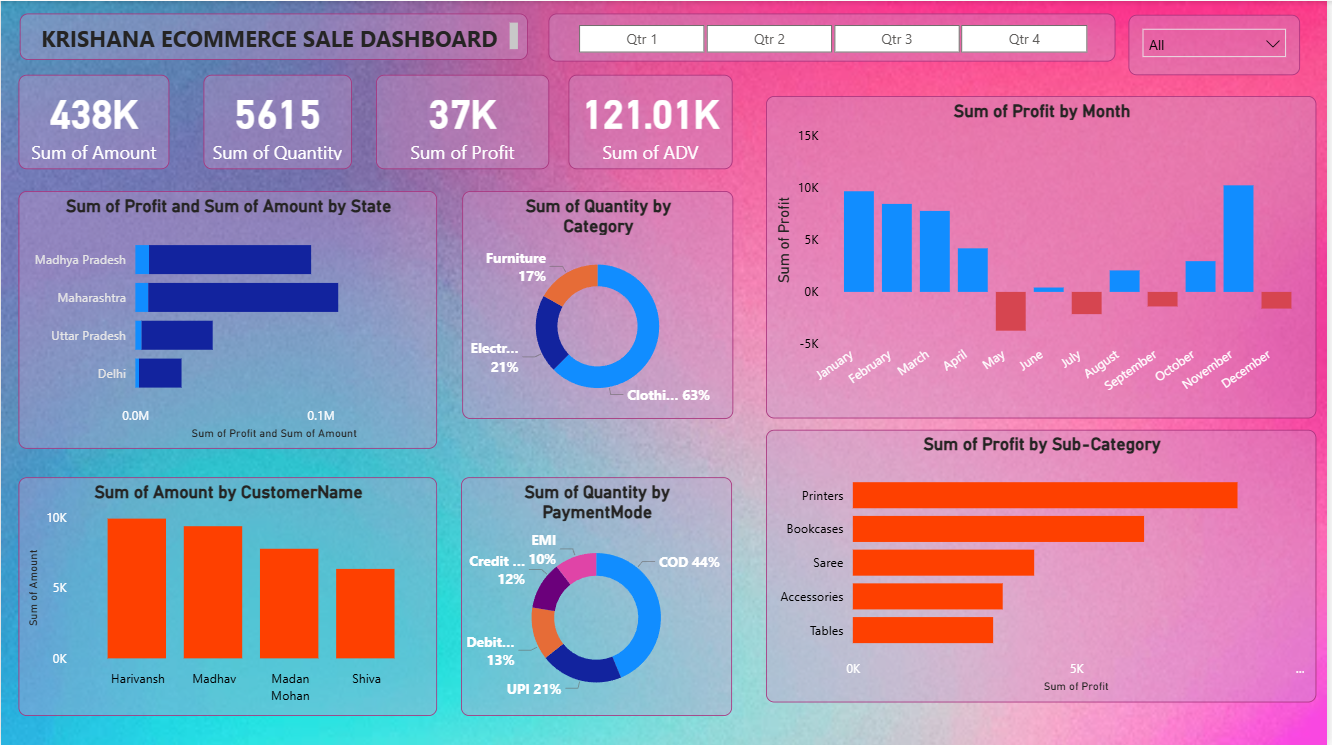

The dashboard page shown, as its layout file describes it:
{"tool":"powerbi","page":{"name":"Page 1","canvas":[1280,720],"ordinal":0},"visuals":[{"type":"textbox","box":[17.5,12.5,490,45],"z":0},{"type":"columnChart","fields":{"Category":["Orders csv.Order Date.Variation.Date Hierarchy.Month"],"Y":["Details csv.Profit"]},"box":[738.6,91.4,531.4,311.4],"z":1000},{"type":"barChart","fields":{"Category":["Details csv.Sub-Category"],"Y":["Details csv.Profit"]},"box":[738.6,414.3,531.4,262.9],"z":2000},{"type":"donutChart","fields":{"Y":["Details csv.Quantity"],"Category":["Details csv.PaymentMode"]},"box":[444.3,460,261.4,230],"z":3000},{"type":"donutChart","fields":{"Category":["Details csv.Category"],"Y":["Details csv.Quantity"]},"box":[445.7,182.9,261.4,220],"z":4000},{"type":"card","fields":{"Values":["Details csv.Amount"]},"box":[17.1,71.4,145.7,91.4],"z":5000},{"type":"card","fields":{"Values":["Details csv.Quantity"]},"box":[195.7,71.4,142.9,91.4],"z":6000},{"type":"card","fields":{"Values":["Details csv.Profit"]},"box":[361.4,71.4,167.1,91.4],"z":7000},{"type":"card","fields":{"Values":["Details csv.ADV"]},"box":[547.1,71.4,158.6,91.4],"z":8000},{"type":"barChart","fields":{"Y":["Details csv.Profit","Details csv.Amount"],"Category":["Orders csv.State"]},"box":[17.1,182.9,404.3,248.6],"z":9000},{"type":"columnChart","fields":{"Category":["Orders csv.CustomerName"],"Y":["Details csv.Amount"]},"box":[17,460,404,230],"z":10000},{"type":"slicer","fields":{"Values":["Orders csv.Order Date.Variation.Date Hierarchy.Quarter"]},"box":[528.8,12.5,547.5,46.2],"z":11000},{"type":"slicer","fields":{"Values":["Orders csv.State"]},"box":[1088.6,12.9,165.7,58.6],"z":12000}]}

Visuals, with their boxes in screenshot pixels (x1, y1, x2, y2), scaled from the page's 1280x720 canvas onto the 1332x745 screenshot:
textbox: box=[18, 13, 528, 59]
columnChart - Orders csv.Order Date.Variation.Date Hierarchy.Month x Details csv.Profit: box=[769, 95, 1322, 417]
barChart - Details csv.Sub-Category x Details csv.Profit: box=[769, 429, 1322, 701]
donutChart - Details csv.Quantity x Details csv.PaymentMode: box=[462, 476, 734, 714]
donutChart - Details csv.Category x Details csv.Quantity: box=[464, 189, 736, 417]
card - Details csv.Amount: box=[18, 74, 169, 168]
card - Details csv.Quantity: box=[204, 74, 352, 168]
card - Details csv.Profit: box=[376, 74, 550, 168]
card - Details csv.ADV: box=[569, 74, 734, 168]
barChart - Details csv.Profit x Details csv.Amount: box=[18, 189, 439, 446]
columnChart - Orders csv.CustomerName x Details csv.Amount: box=[18, 476, 438, 714]
slicer - Orders csv.Order Date.Variation.Date Hierarchy.Quarter: box=[550, 13, 1120, 61]
slicer - Orders csv.State: box=[1133, 13, 1305, 74]
